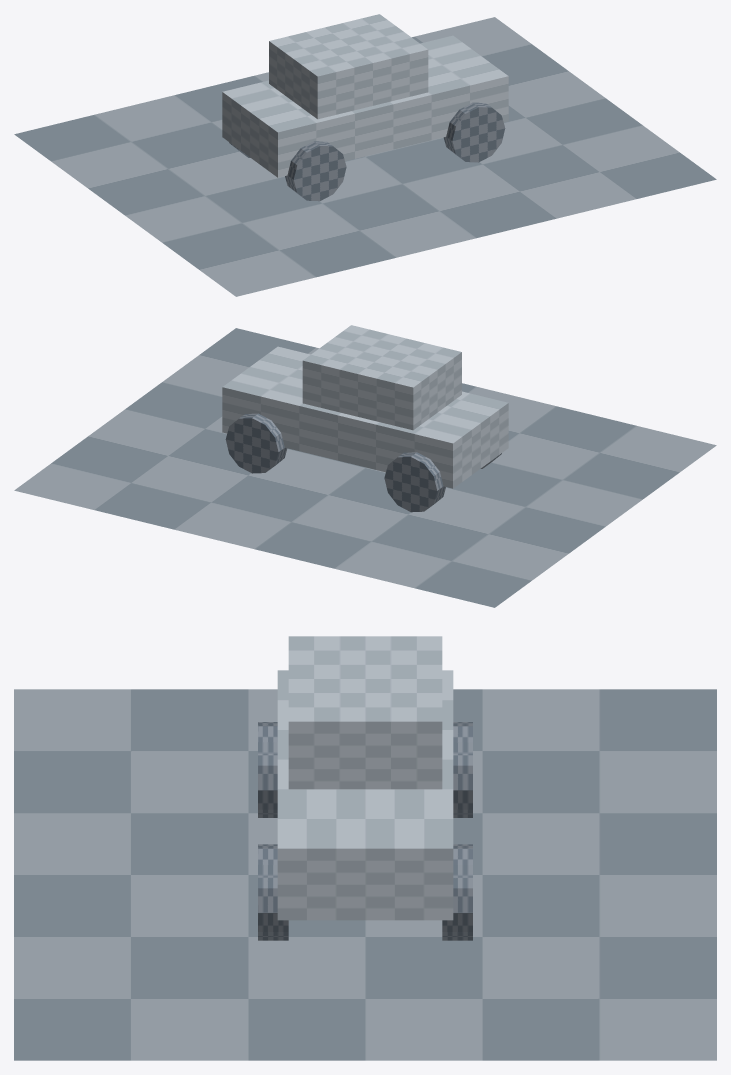
Rendered from result.glb.
The picture shows the model from 3 angles, top to bottom: view 1: azimuth 30°, elevation 25°; view 2: azimuth 150°, elevation 25°; view 3: azimuth 270°, elevation 25°; orthographic projection. The views are drawn at different scales.
Parts seen in each view (by area): view 1: Viewer baked procedural surfaces; view 2: Viewer baked procedural surfaces; view 3: Viewer baked procedural surfaces.
Part boxes in pixels (x1,y1,x2,y2): Viewer baked procedural surfaces: (14, 14, 716, 296); Viewer baked procedural surfaces: (14, 325, 716, 607); Viewer baked procedural surfaces: (14, 636, 716, 1060).
Size of the model in its own units: 10 by 2.3 by 8.
3 materials, 3 textured.
